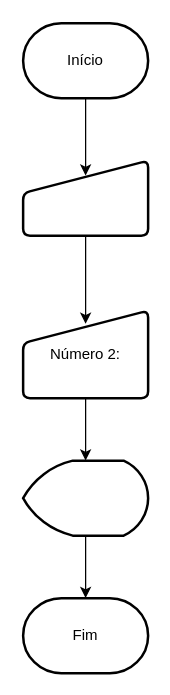
The diagram is 170 pixels wide and 695 high, and some of its shapes have lost their labels. The centre of each missing label's shape, as x and y in pixels:
"Número 1:" goes at point (85, 197).
"Soma" goes at point (85, 497).
